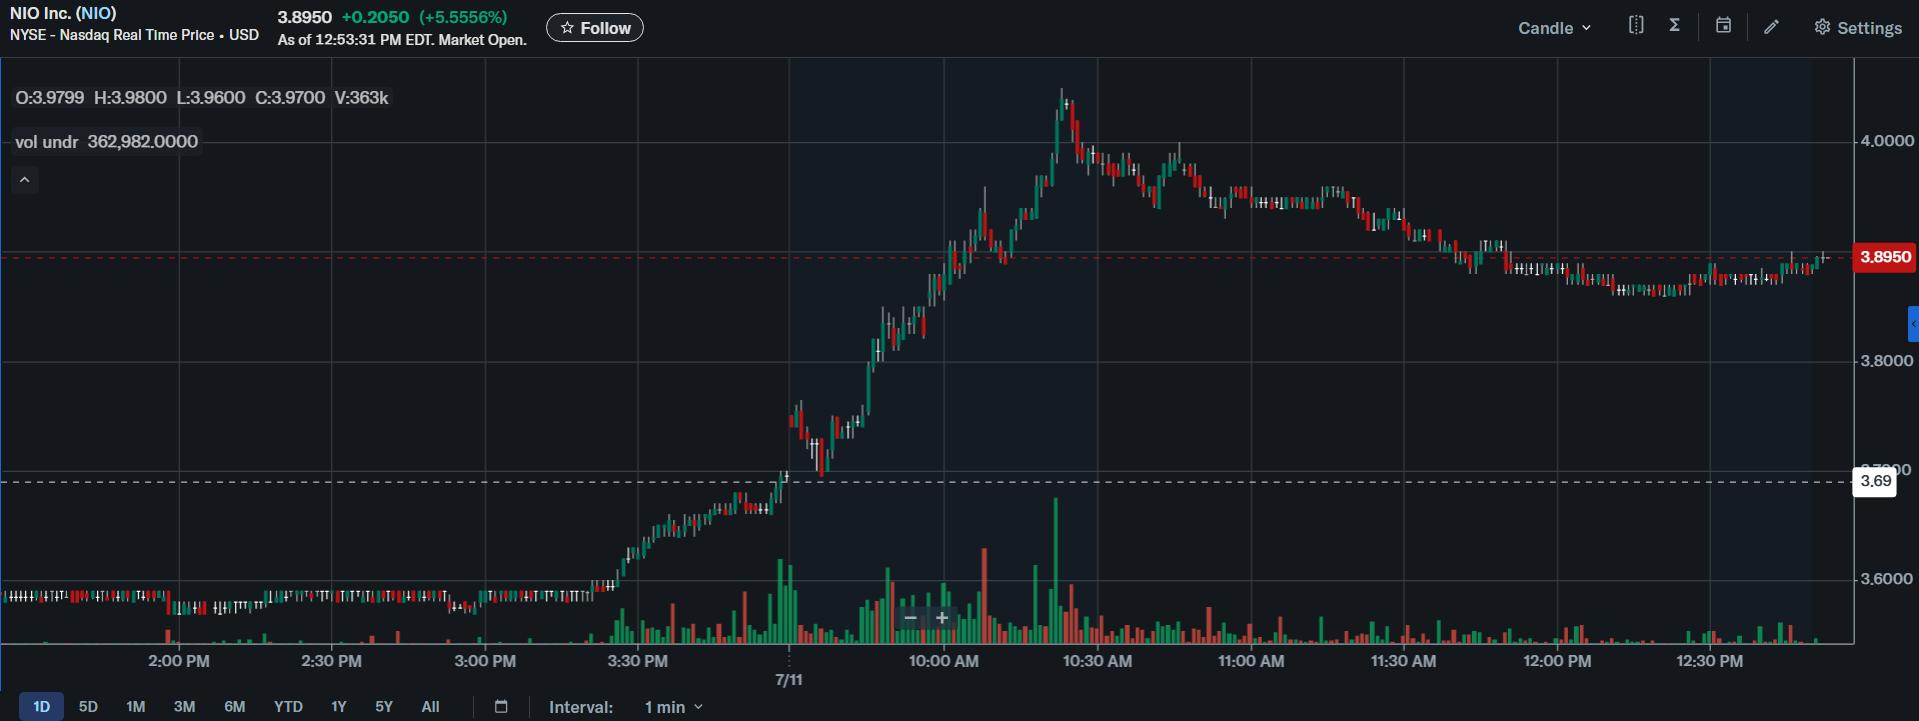Downtrend: (1169, 129, 1231, 229), (975, 187, 1007, 275)
Sideways: (1567, 255, 1835, 306)
Uptrend: (816, 82, 1071, 485), (613, 491, 745, 596)
